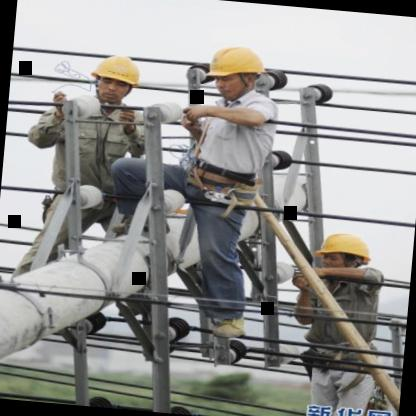helmet: (200, 37, 272, 103), (309, 226, 382, 290), (84, 48, 148, 108)
